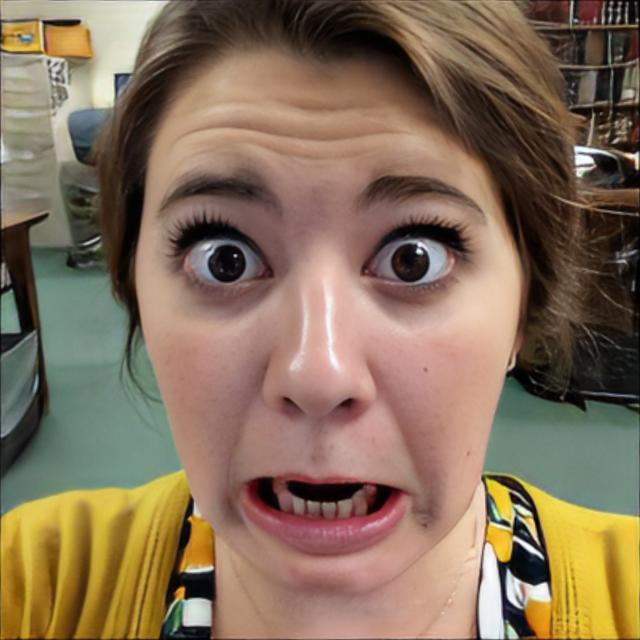fear: (131, 37, 526, 600)
